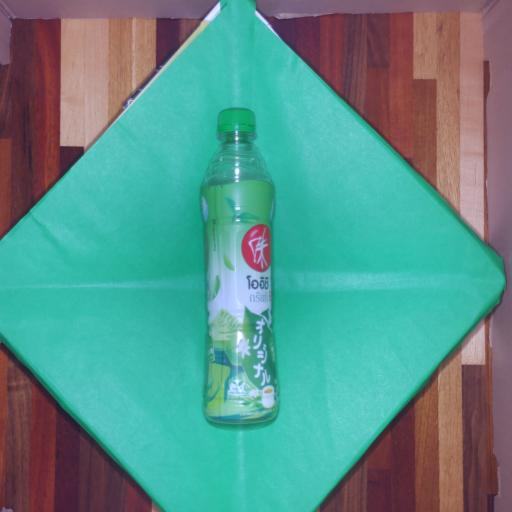bottle: (187, 96, 294, 446)
